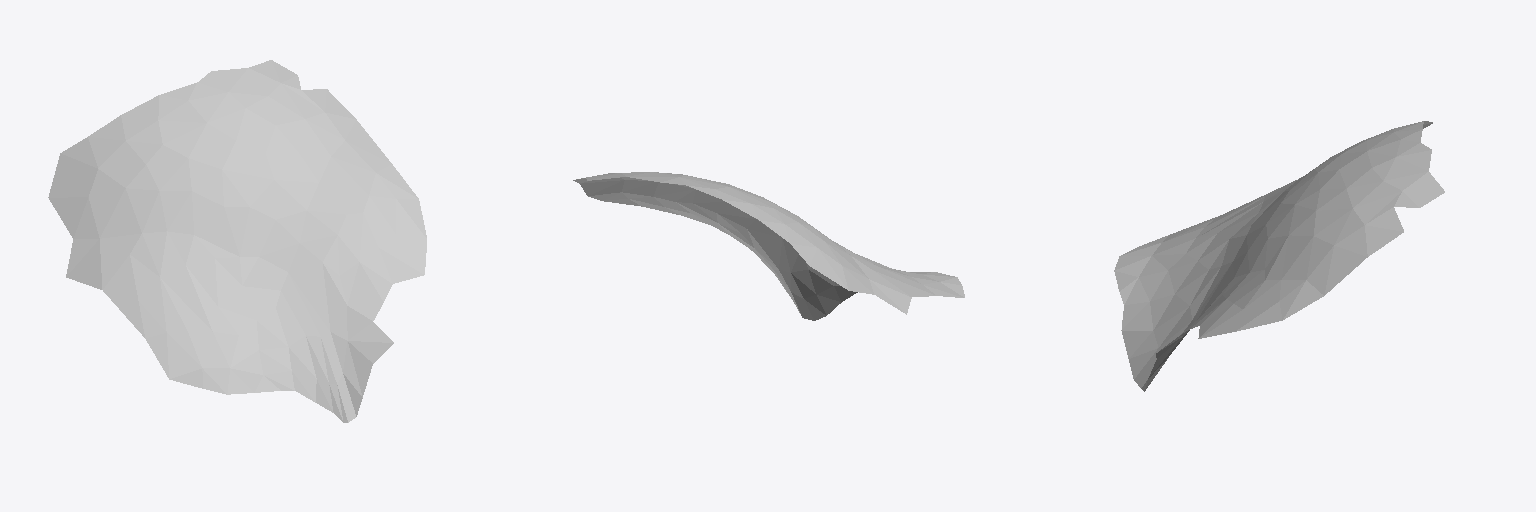
Rendered from debug.obj.
The picture shows the model from 3 angles: view 1: azimuth 30°, elevation 25°; view 2: azimuth 150°, elevation 25°; view 3: azimuth 270°, elevation 25°; orthographic projection.
Bounding box in the file's own units: 1.03 × 0.7297 × 0.9018.